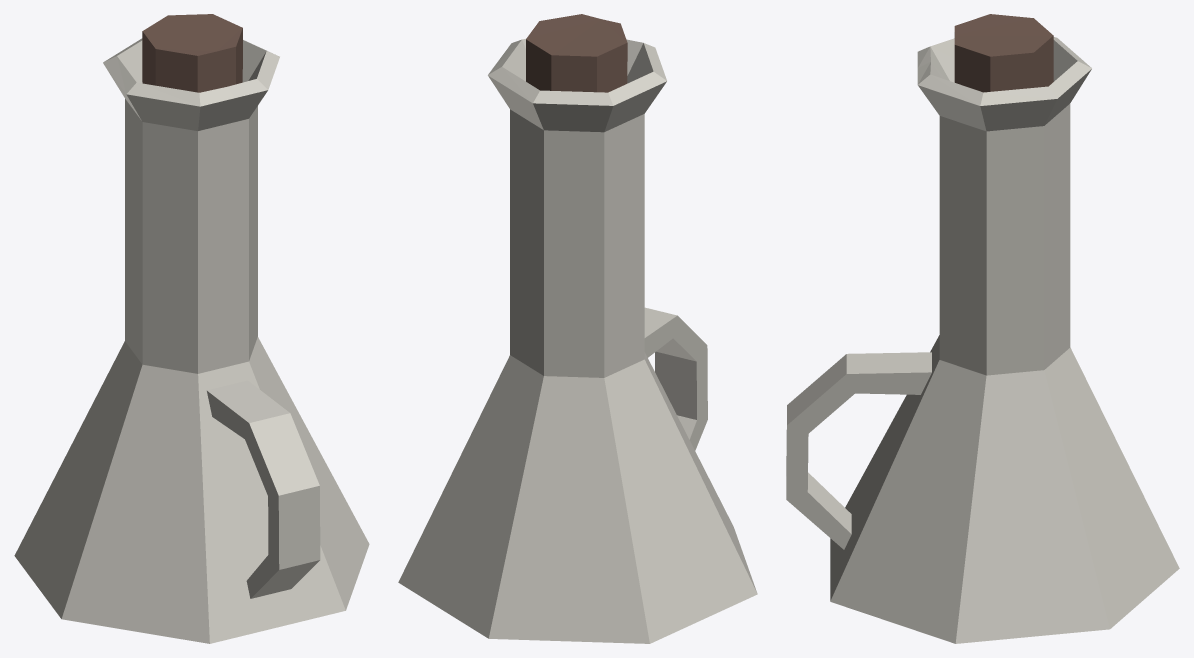
The model's file is vialofblood.fbx.
3 views of the same model, side by side, from view 1: azimuth 30°, elevation 25°; view 2: azimuth 150°, elevation 25°; view 3: azimuth 270°, elevation 25° (orthographic).
Visible parts, largest first — view 1: Vial2; view 2: Vial2; view 3: Vial2.
Boxes of the visible parts, left/top/right/bottom form: Vial2: left=14, top=14, right=369, bottom=643; Vial2: left=398, top=14, right=757, bottom=643; Vial2: left=786, top=14, right=1179, bottom=643.
Size of the model in its own units: 3.49 by 5.74 by 3.84.
